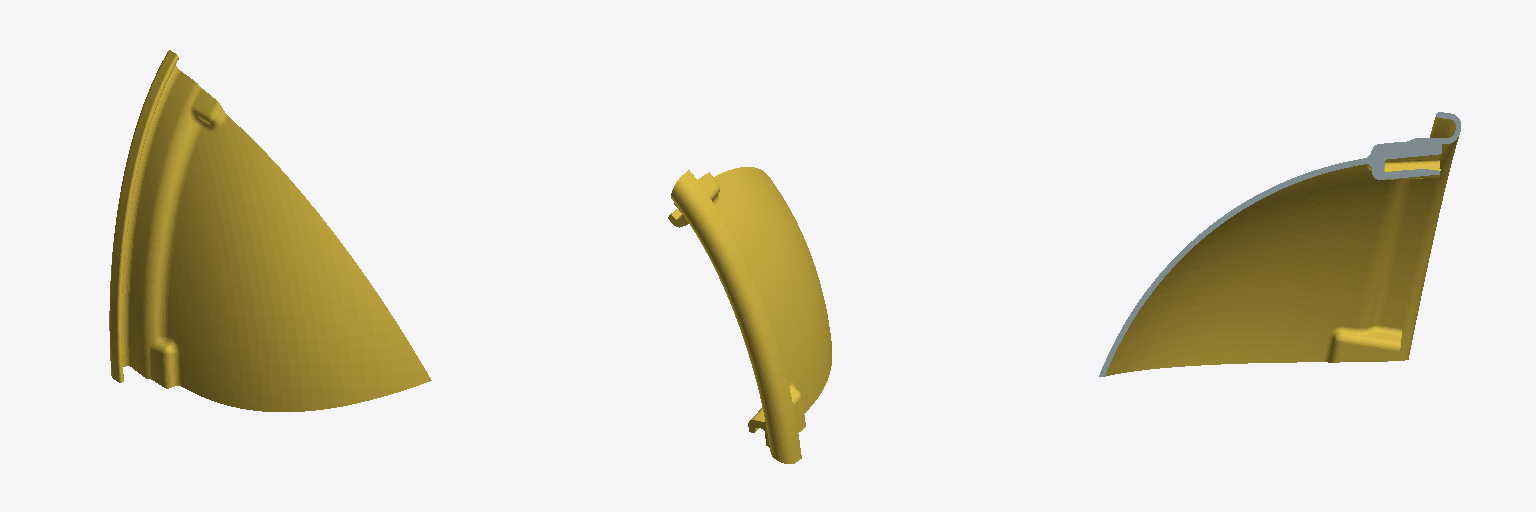
The model's file is Body7.obj.
The picture shows the model from 3 angles: view 1: azimuth 30°, elevation 25°; view 2: azimuth 150°, elevation 25°; view 3: azimuth 270°, elevation 25°; orthographic projection.
Visible parts, largest first — view 1: Body7; view 2: Body7; view 3: Body7.
Boxes of the visible parts, <box> form: Body7: <box>109,50,431,411</box>; Body7: <box>668,167,831,463</box>; Body7: <box>1099,112,1460,376</box>.
Bounding box in the file's own units: 0.7386 × 1.19 × 1.36.